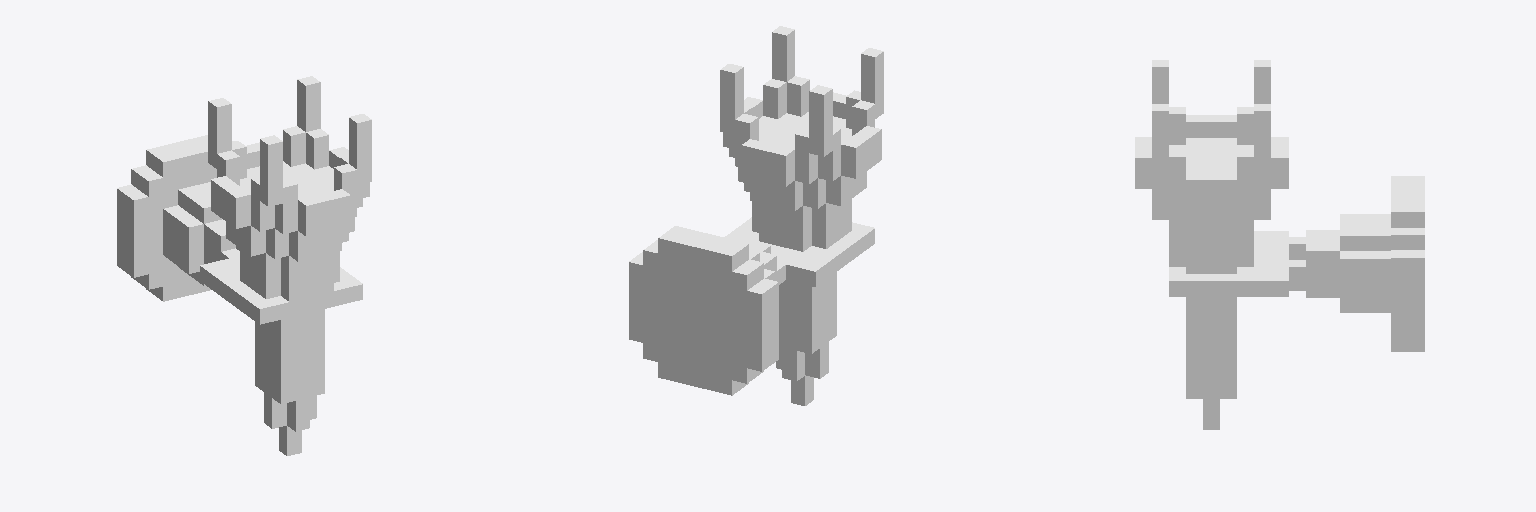
The model's file is Support3AndTorch.obj.
3 views of the same model, side by side, from view 1: azimuth 30°, elevation 25°; view 2: azimuth 150°, elevation 25°; view 3: azimuth 270°, elevation 25° (orthographic).
Bounding box in the file's own units: 9 × 22 × 17.